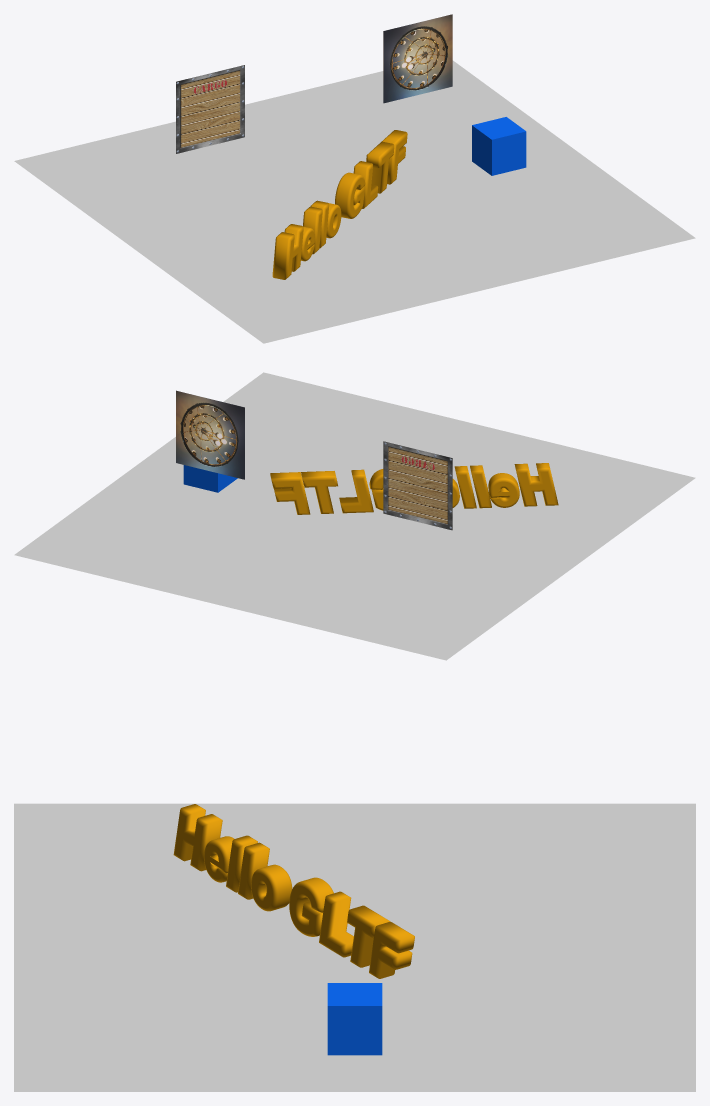
File: gltf_test_load_objects.gltf
The picture shows the model from 3 angles, top to bottom: view 1: azimuth 30°, elevation 25°; view 2: azimuth 150°, elevation 25°; view 3: azimuth 270°, elevation 25°; orthographic projection. The views are drawn at different scales.
Parts seen in each view (by area): view 1: NoMaterial, Text, DrawTexture, DrawImage, BlueMaterial; view 2: NoMaterial, Text, DrawImage, DrawTexture, BlueMaterial; view 3: NoMaterial, Text, BlueMaterial.
Boxes of the visible parts, left/top/right/bottom form: NoMaterial: left=14, top=60, right=695, bottom=343; Text: left=272, top=130, right=407, bottom=279; DrawTexture: left=383, top=14, right=452, bottom=103; DrawImage: left=176, top=65, right=244, bottom=153; BlueMaterial: left=472, top=117, right=526, bottom=175; NoMaterial: left=14, top=372, right=695, bottom=660; Text: left=270, top=463, right=558, bottom=514; DrawImage: left=383, top=441, right=452, bottom=530; DrawTexture: left=176, top=390, right=244, bottom=479; BlueMaterial: left=183, top=465, right=237, bottom=492; NoMaterial: left=14, top=803, right=695, bottom=1091; Text: left=173, top=804, right=414, bottom=978; BlueMaterial: left=327, top=983, right=382, bottom=1055.
Bounding box in the file's own units: 25 × 6.74 × 25.
4 materials, 2 textured.
